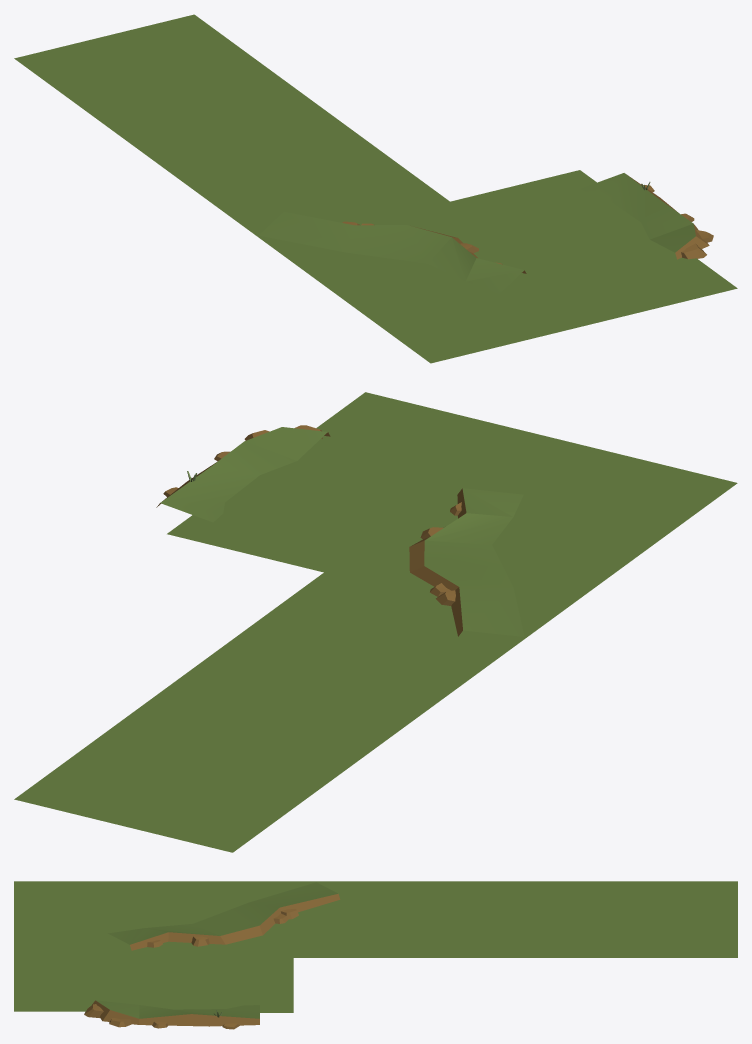
The model's file is Grass1.fbx.
3 renders of one model, top to bottom at view 1: azimuth 30°, elevation 25°; view 2: azimuth 150°, elevation 25°; view 3: azimuth 270°, elevation 25°, orthographic. The views are drawn at different scales.
Parts seen in each view (by area): view 1: Grass1; view 2: Grass1; view 3: Grass1.
Boxes of the visible parts, x1,y1,x2,y2 form: Grass1: [14, 14, 737, 363]; Grass1: [14, 392, 737, 852]; Grass1: [14, 881, 737, 1029].
Bounding box in the file's own units: 57.75 × 2.4 × 120.
